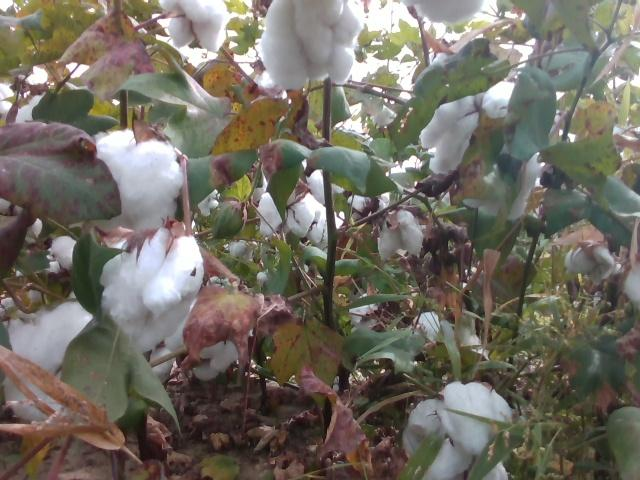cotton_ready: (0, 290, 96, 426), (103, 228, 204, 353), (405, 381, 512, 479), (91, 128, 185, 231), (419, 82, 515, 174), (262, 0, 359, 90), (167, 304, 254, 382), (464, 151, 544, 218), (259, 194, 328, 248), (159, 0, 230, 52), (414, 312, 490, 360), (376, 210, 425, 259), (564, 242, 624, 281), (350, 291, 400, 335), (414, 0, 482, 25), (48, 231, 82, 275), (301, 158, 329, 201), (348, 192, 390, 215), (150, 347, 174, 379), (474, 462, 508, 480), (626, 267, 640, 306)
